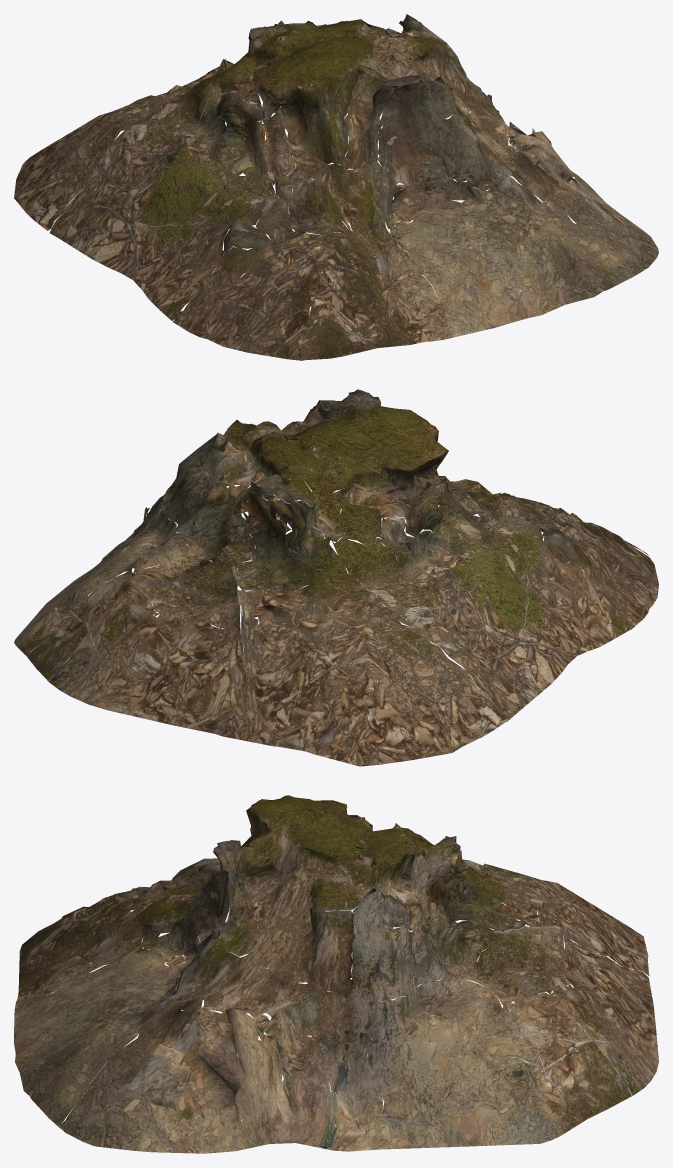
Rendered from tree_stump_01_LOD1.fbx.
3 views of the same model, one above another, from view 1: azimuth 30°, elevation 25°; view 2: azimuth 150°, elevation 25°; view 3: azimuth 270°, elevation 25° (orthographic). The views are drawn at different scales.
Visible parts, largest first — view 1: tree_stump_01.001; view 2: tree_stump_01.001; view 3: tree_stump_01.001.
Boxes of the visible parts, box(x1,y1,x2,y2) form: tree_stump_01.001: box(14, 14, 658, 360); tree_stump_01.001: box(14, 389, 658, 766); tree_stump_01.001: box(14, 795, 658, 1153).
Bounding box in the file's own units: 1.42 × 0.5738 × 1.59.
1 material, 1 textured.
